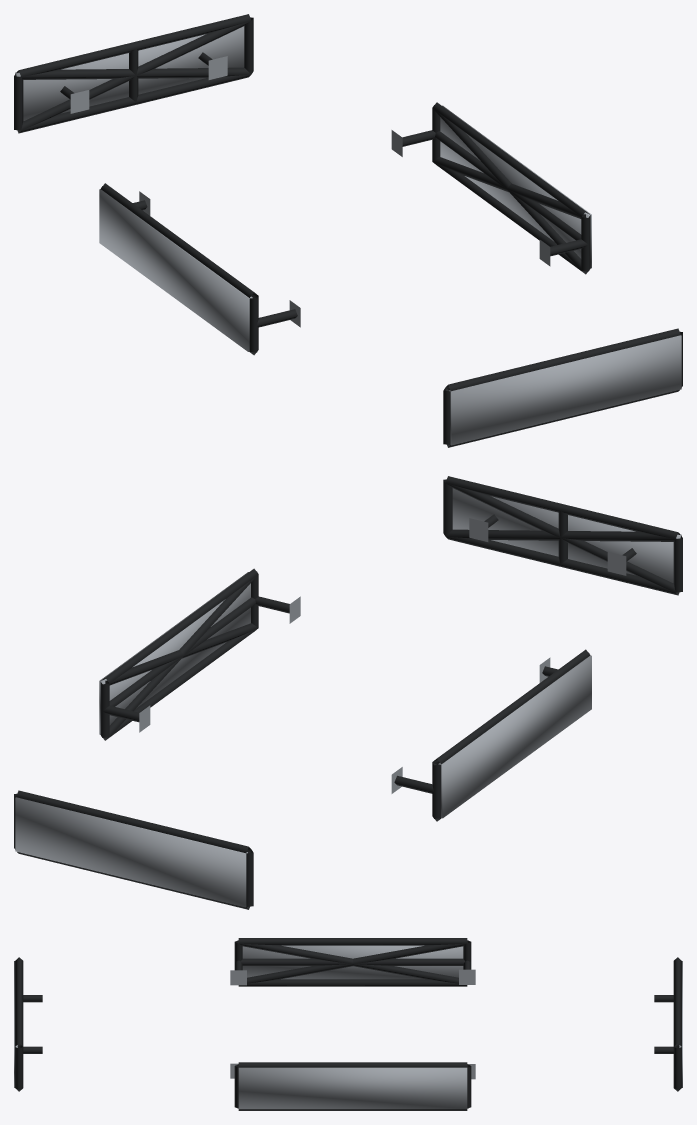
The model's file is varenna_verso_protecao.glb.
3 views of the same model, one above another, from view 1: azimuth 30°, elevation 25°; view 2: azimuth 150°, elevation 25°; view 3: azimuth 270°, elevation 25° (orthographic). The views are drawn at different scales.
Parts seen in each view (by area): view 1: Protection_front_Level3_Details, Protection_left_Level3_Details, Protection_rear_Level1_Details, Protection_rear_Level3_Details, Protection_right_Level1_Details, Protection_rear_Level2_Details, Protection_right_Level2_Details, Protection_right_Level3_Details, Protection_front_Level1_Details, Protection_left_Level1_Details; view 2: Protection_rear_Level3_Details, Protection_left_Level3_Details, Protection_front_Level1_Details, Protection_front_Level3_Details, Protection_right_Level1_Details, Protection_front_Level2_Details, Protection_right_Level2_Details, Protection_right_Level3_Details, Protection_rear_Level1_Details, Protection_left_Level1_Details; view 3: Protection_right_Level3_Details, Protection_left_Level2_Details, Protection_left_Level1_Details, Protection_left_Level3_Details, Protection_right_Level1_Details, Protection_rear_Level1_Details, Protection_front_Level1_Details.
Part boxes in pixels (bbox=[...]): Protection_front_Level3_Details: bbox=[449, 335, 681, 445]; Protection_left_Level3_Details: bbox=[99, 189, 252, 351]; Protection_rear_Level1_Details: bbox=[14, 14, 253, 133]; Protection_rear_Level3_Details: bbox=[15, 26, 244, 121]; Protection_right_Level1_Details: bbox=[391, 102, 590, 274]; Protection_rear_Level2_Details: bbox=[16, 21, 251, 132]; Protection_right_Level2_Details: bbox=[432, 109, 589, 273]; Protection_right_Level3_Details: bbox=[440, 105, 591, 268]; Protection_front_Level1_Details: bbox=[443, 328, 682, 447]; Protection_left_Level1_Details: bbox=[101, 183, 300, 355]; Protection_rear_Level3_Details: bbox=[15, 797, 247, 907]; Protection_left_Level3_Details: bbox=[438, 655, 591, 818]; Protection_front_Level1_Details: bbox=[443, 476, 682, 595]; Protection_front_Level3_Details: bbox=[452, 488, 681, 583]; Protection_right_Level1_Details: bbox=[100, 568, 300, 740]; Protection_front_Level2_Details: bbox=[445, 483, 680, 594]; Protection_right_Level2_Details: bbox=[101, 575, 258, 740]; Protection_right_Level3_Details: bbox=[99, 572, 250, 734]; Protection_rear_Level1_Details: bbox=[14, 790, 253, 909]; Protection_left_Level1_Details: bbox=[391, 649, 590, 821]; Protection_right_Level3_Details: bbox=[238, 1067, 467, 1109]; Protection_left_Level2_Details: bbox=[238, 941, 467, 983]; Protection_left_Level1_Details: bbox=[230, 938, 475, 986]; Protection_left_Level3_Details: bbox=[242, 945, 463, 979]; Protection_right_Level1_Details: bbox=[230, 1062, 475, 1110]; Protection_rear_Level1_Details: bbox=[654, 957, 681, 1091]; Protection_front_Level1_Details: bbox=[15, 957, 42, 1091].
Size of the model in its own units: 2.01 by 0.354 by 4.42.
Materials: 1 (1 with a texture image).
